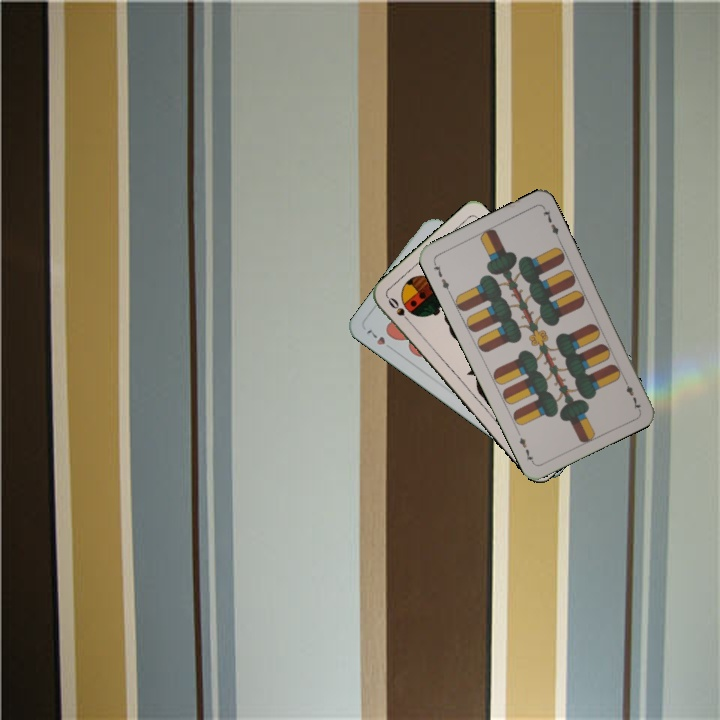E7: (429, 257, 453, 295), (619, 374, 643, 412)
H7: (362, 325, 397, 354)
SO: (384, 293, 415, 327)
